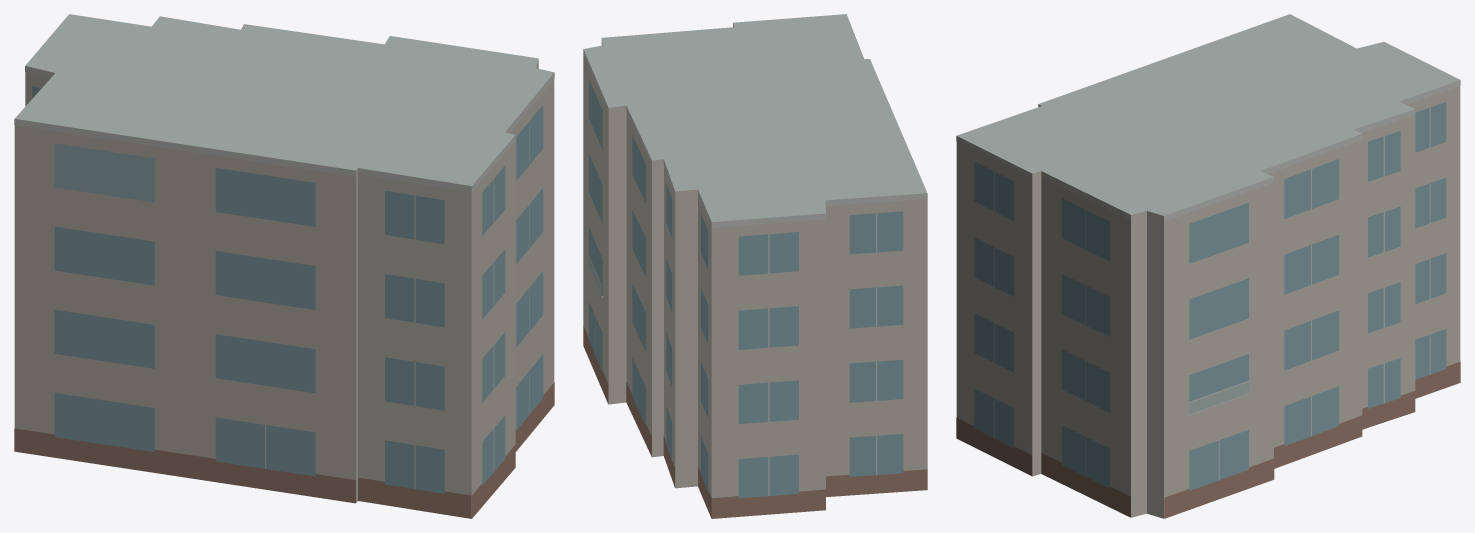
The model's file is survey-upis-32461368.glb.
3 renders of one model, left to right at view 1: azimuth 30°, elevation 25°; view 2: azimuth 150°, elevation 25°; view 3: azimuth 270°, elevation 25°, orthographic. The views are drawn at different scales.
Visible parts, largest first — view 1: survey-upis-32461368.tmp; view 2: survey-upis-32461368.tmp; view 3: survey-upis-32461368.tmp.
Boxes of the visible parts, x1,y1,x2,y2 form: survey-upis-32461368.tmp: (14, 14, 554, 518); survey-upis-32461368.tmp: (583, 14, 927, 518); survey-upis-32461368.tmp: (956, 14, 1460, 518).
Size of the model in its own units: 18.33 by 12.8 by 19.32.
